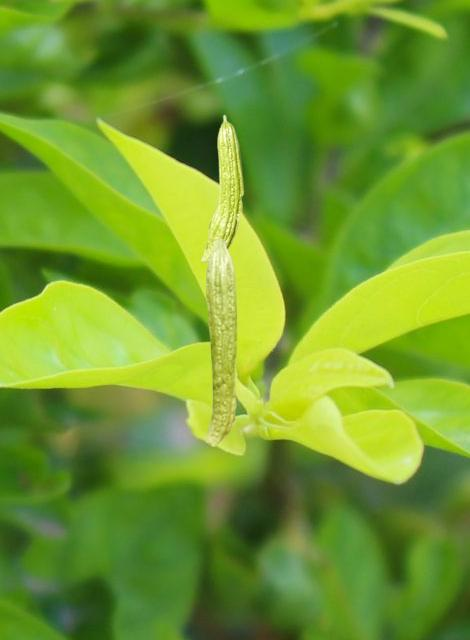ampalaya: (203, 238, 239, 447), (198, 114, 245, 264)
